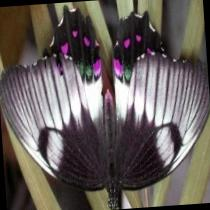butterfly: (0, 7, 210, 206)
